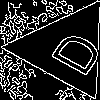D: (40, 24, 100, 78)
